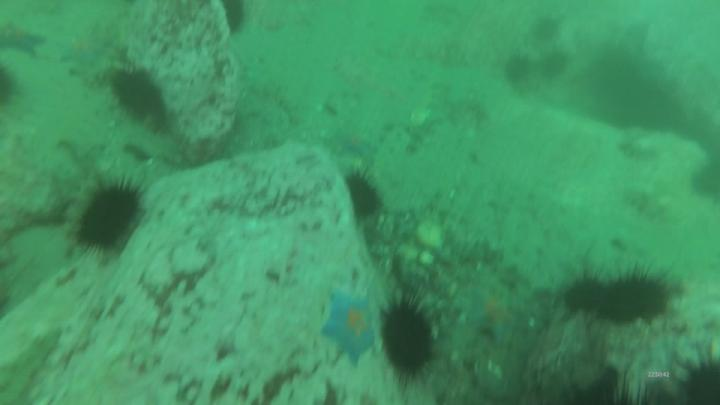echinus: (67, 175, 144, 258), (378, 289, 438, 384), (596, 264, 668, 325), (578, 369, 673, 405), (107, 66, 167, 122), (669, 349, 720, 405), (343, 169, 387, 224), (562, 273, 608, 319), (689, 162, 720, 207), (528, 15, 565, 49), (502, 51, 536, 85), (222, 1, 251, 39), (540, 46, 572, 80), (1, 66, 23, 113)
starfish: (323, 286, 381, 367), (462, 285, 518, 341), (49, 30, 110, 70), (1, 20, 51, 60), (323, 129, 373, 159)
